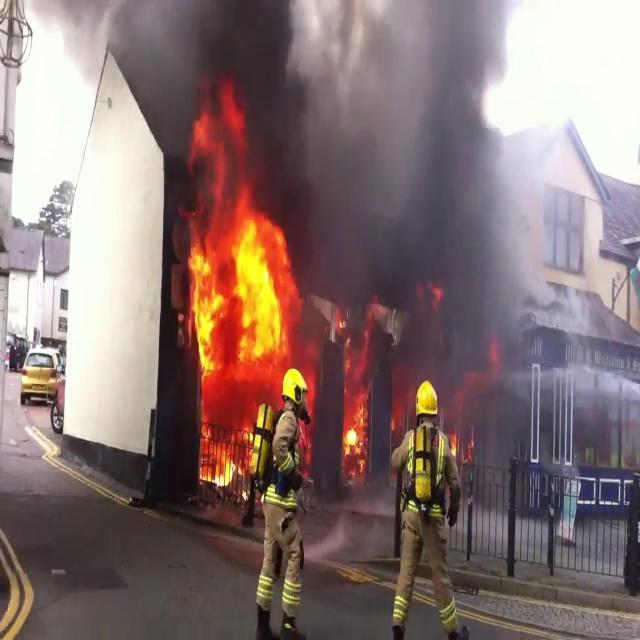Fire: (182, 164, 306, 392), (188, 383, 274, 498), (340, 310, 378, 478)
Smoke: (120, 0, 551, 253)
